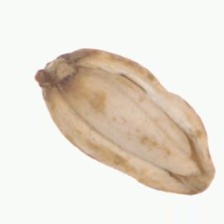L1: (175, 151, 217, 197), (33, 51, 78, 90)
L2: (35, 48, 216, 195)
